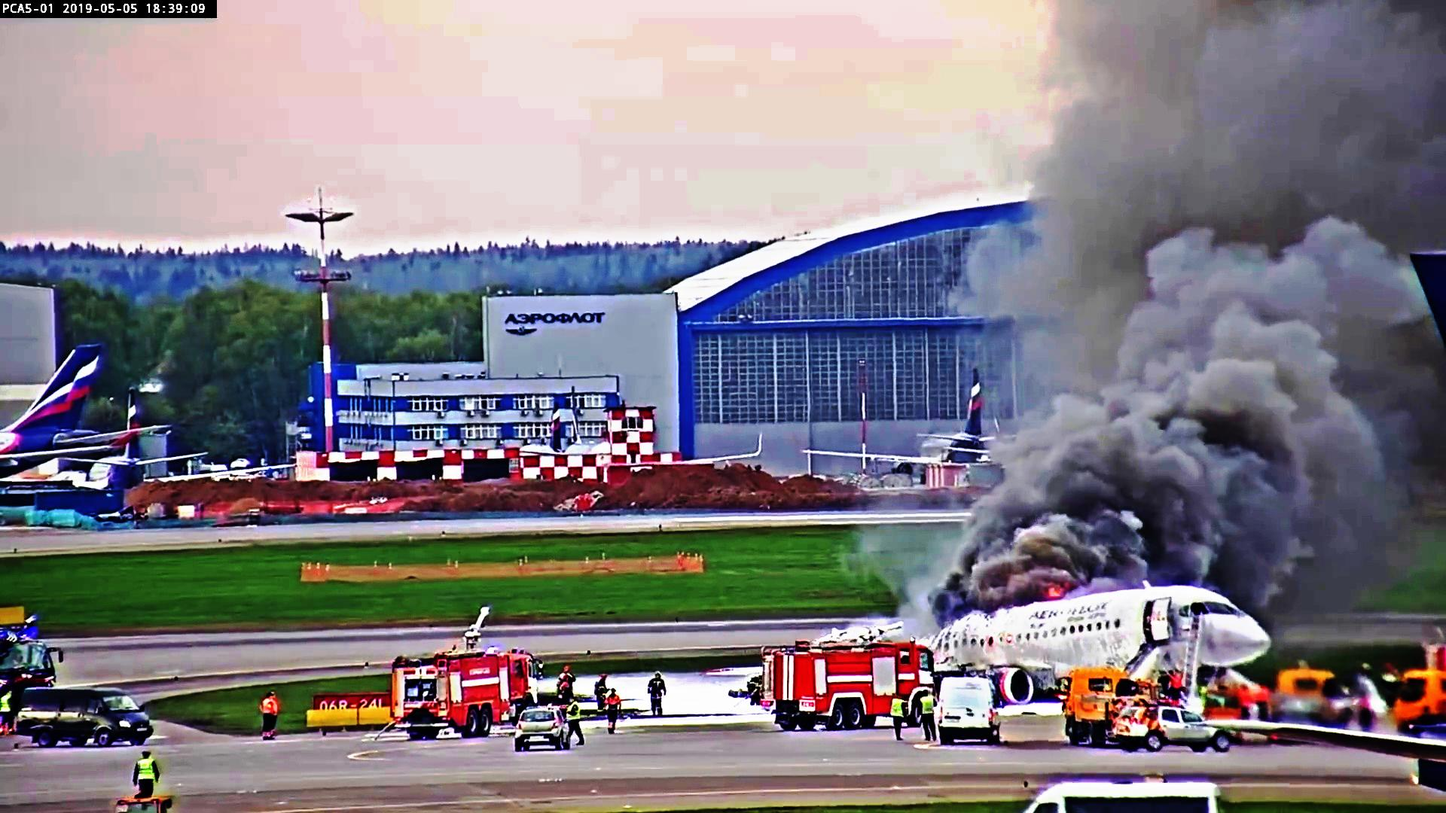smoke: (968, 23, 1385, 583)
